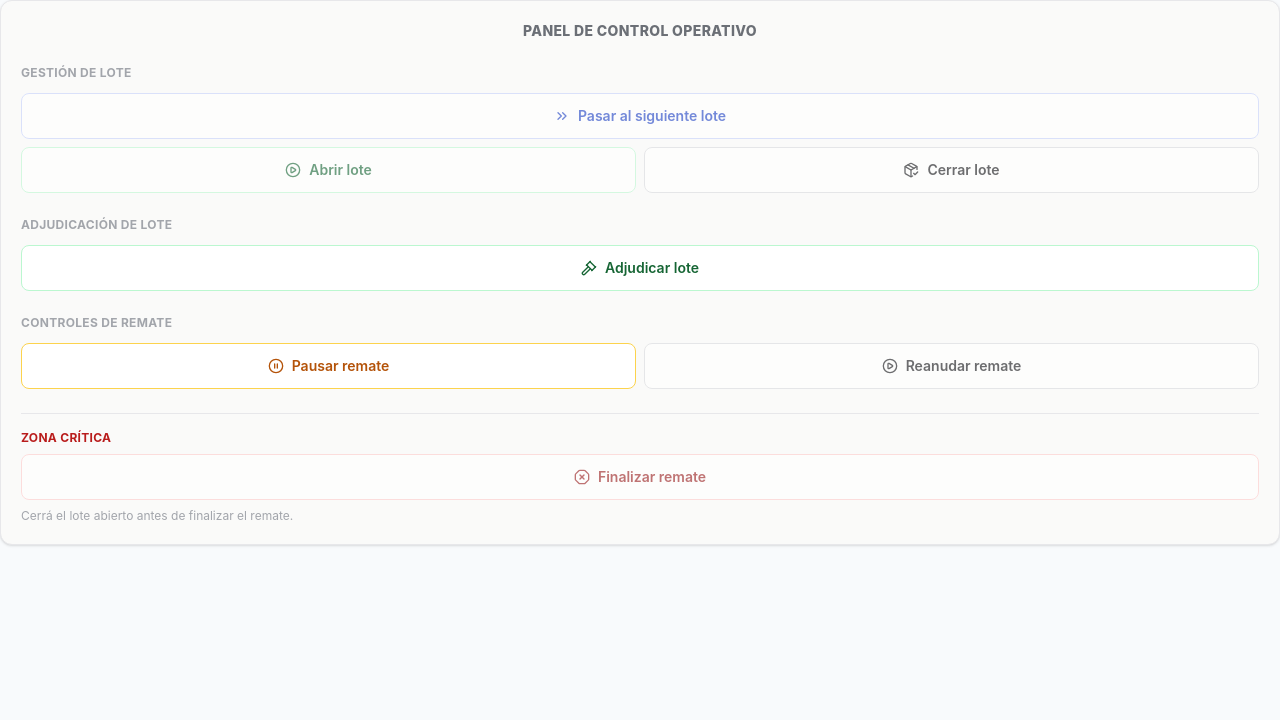
it: ConsolaControlPanel › Adjudicar lote (exclusivo del caso con oferta ganadora) › advertencia de oferta reciente (menos de 10 segundos) › con una oferta de hace 8 segundos, muestra el modal de advertencia en vez de adjudicar directo
Click the button "Adjudicar lote". click: (640, 268)
box: [21,245,1259,291]
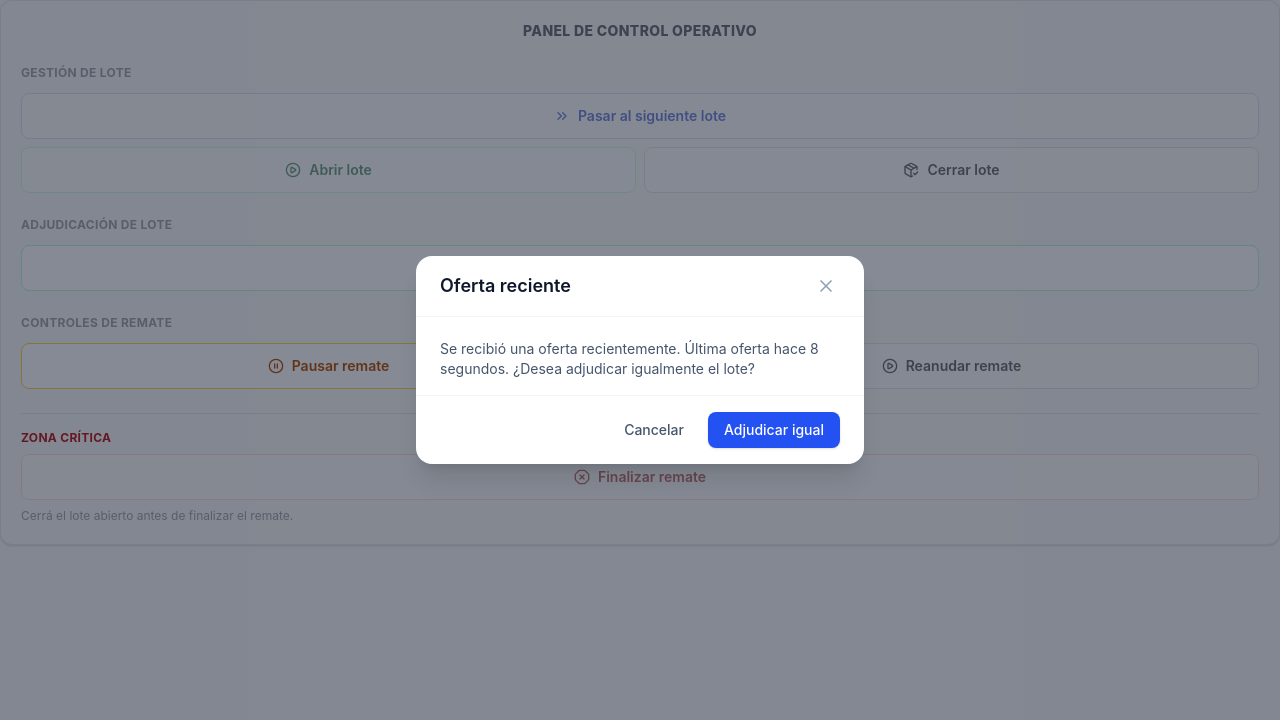
Result: the dialog shows "Última oferta hace 8 segundos" at [440,340,819,377]
